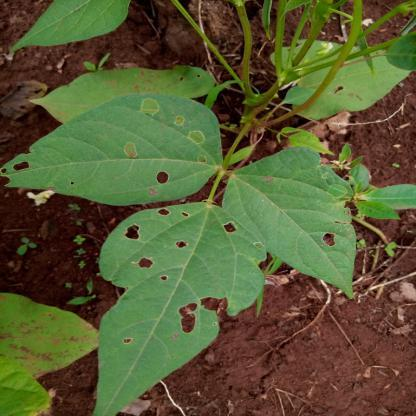Beans_Angular_LeafSpot: (94, 201, 267, 416), (4, 98, 225, 200), (230, 155, 358, 303)
